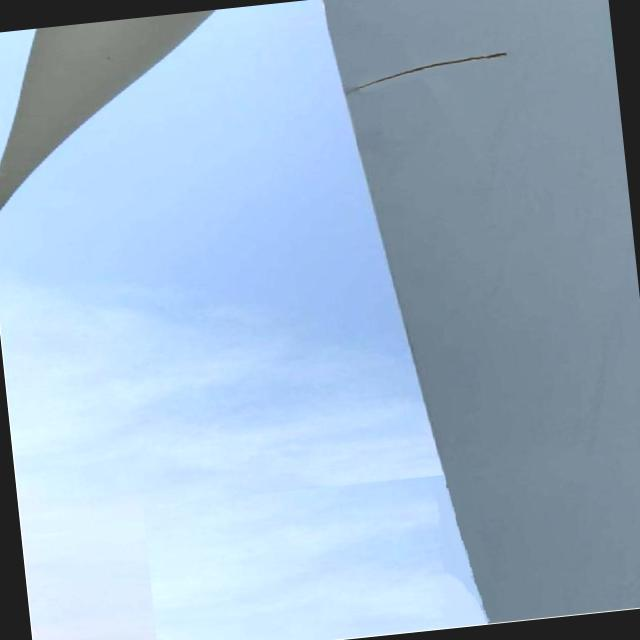crack: (344, 48, 510, 95)
